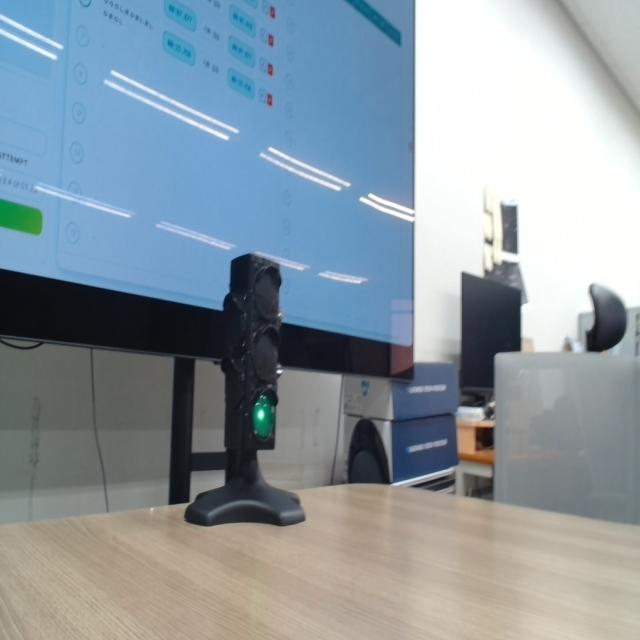green_light: (253, 395, 274, 439)
